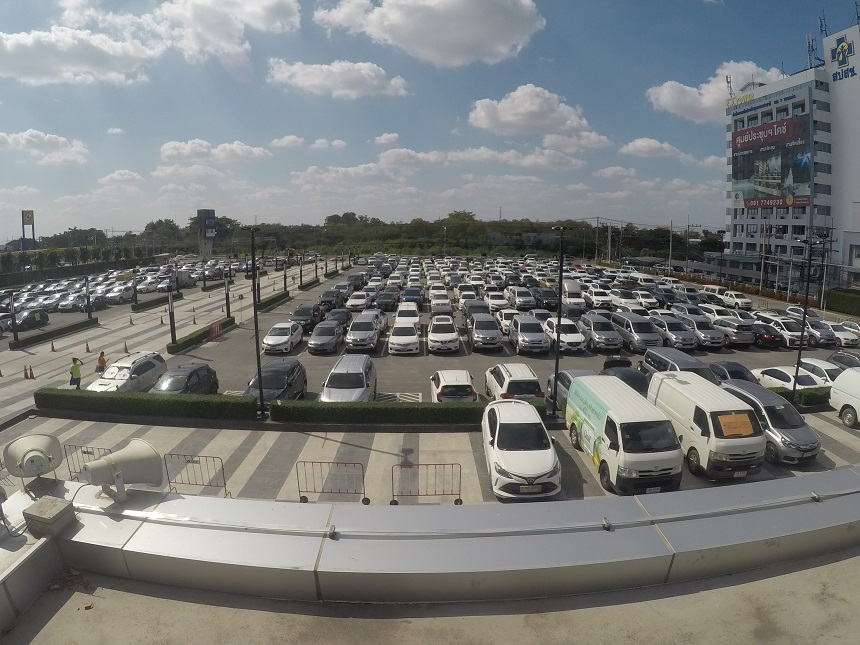busy: (488, 441, 559, 499), (605, 437, 680, 490), (695, 432, 763, 476), (772, 423, 822, 466), (323, 367, 372, 400), (251, 368, 298, 397), (492, 364, 536, 394), (429, 374, 476, 402), (99, 360, 139, 389), (163, 369, 207, 394), (650, 351, 689, 377), (610, 361, 645, 389), (386, 331, 422, 357), (550, 364, 593, 385), (344, 325, 376, 352), (429, 330, 462, 353), (308, 328, 336, 355), (803, 356, 839, 376), (516, 332, 550, 353), (468, 329, 503, 349), (756, 363, 793, 381), (626, 327, 659, 347), (553, 334, 587, 353), (709, 358, 740, 378), (696, 329, 726, 349), (261, 332, 290, 352), (595, 328, 621, 350), (786, 328, 808, 349), (669, 328, 692, 348), (731, 325, 752, 345), (836, 330, 857, 347), (811, 328, 830, 345), (760, 330, 780, 345), (845, 350, 860, 364)
